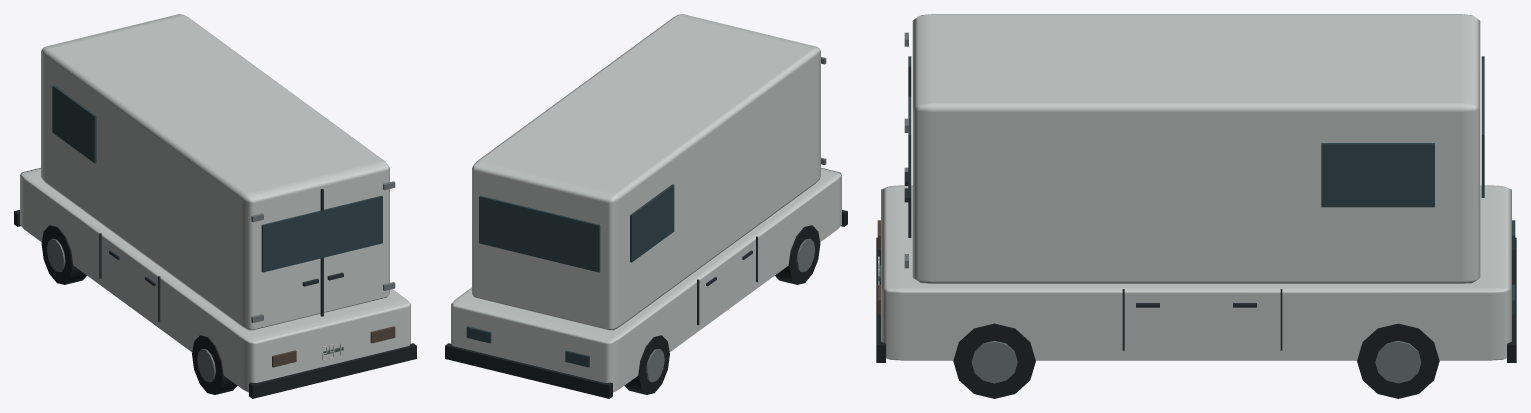
Rendered from van-3.glb.
3 views of the same model, side by side, from view 1: azimuth 30°, elevation 25°; view 2: azimuth 150°, elevation 25°; view 3: azimuth 270°, elevation 25° (orthographic). The views are drawn at different scales.
Visible parts, largest first — view 1: van/2/KR-230-3; view 2: van/2/KR-230-3; view 3: van/2/KR-230-3.
Boxes of the visible parts, x1,y1,x2,y2 form: van/2/KR-230-3: (14,14,416,398); van/2/KR-230-3: (445,14,847,398); van/2/KR-230-3: (876,14,1516,398).
Bounding box in the file's own units: 2.17 × 2.6 × 5.28.
